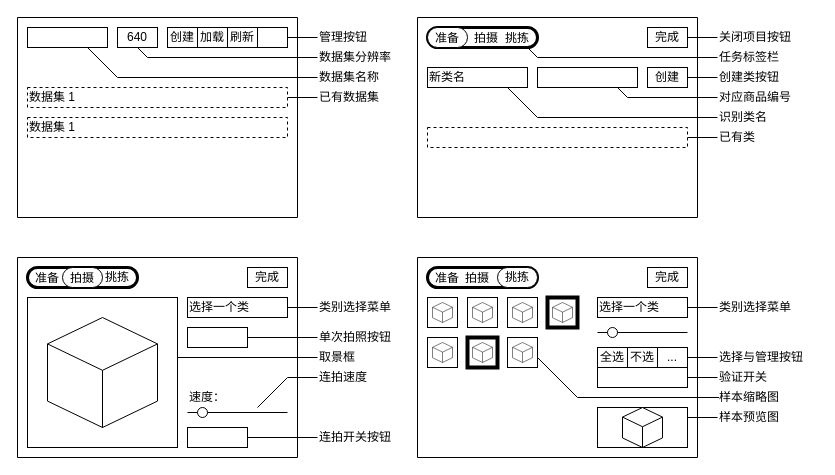
Image size: 835x475. Some labels were removed from this diagram. Each missing label, with the box of its shape:
删除: (256, 26, 288, 48)
商品编号: (536, 66, 638, 88)
开关验证标记: (596, 366, 688, 388)
开始连拍: (186, 426, 248, 448)
捕捉一次: (186, 326, 248, 348)
新数据集名称: (26, 26, 108, 48)
类名（商品编号）: (426, 126, 688, 148)
